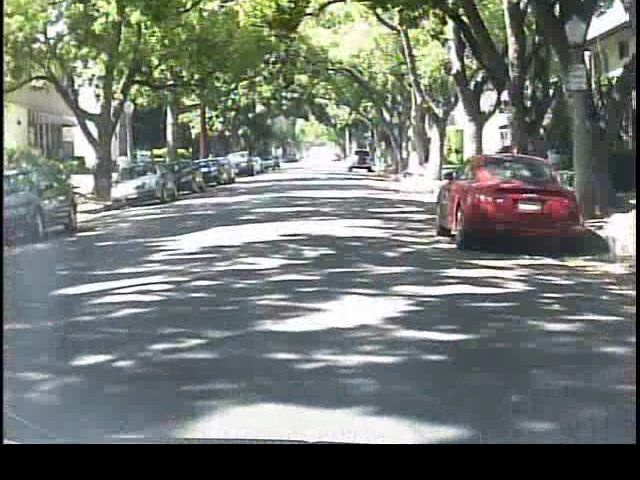person: (114, 146, 137, 195)
